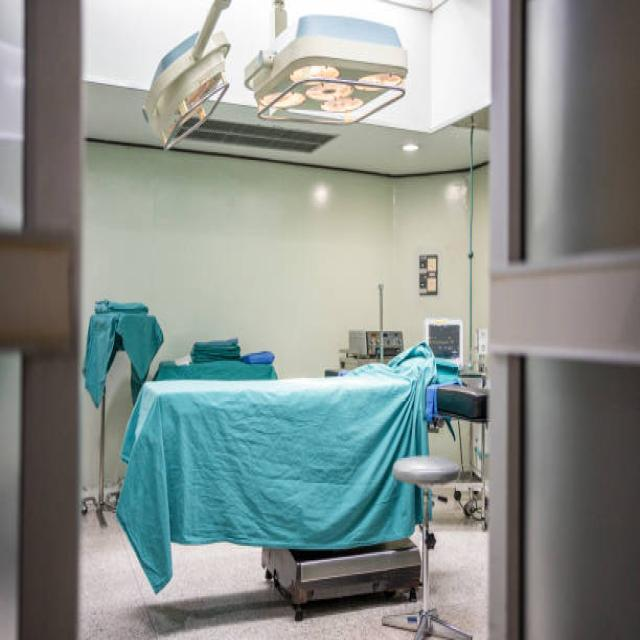Monitor: (88, 272, 160, 578), (420, 308, 470, 384)
bed: (119, 330, 437, 640)
